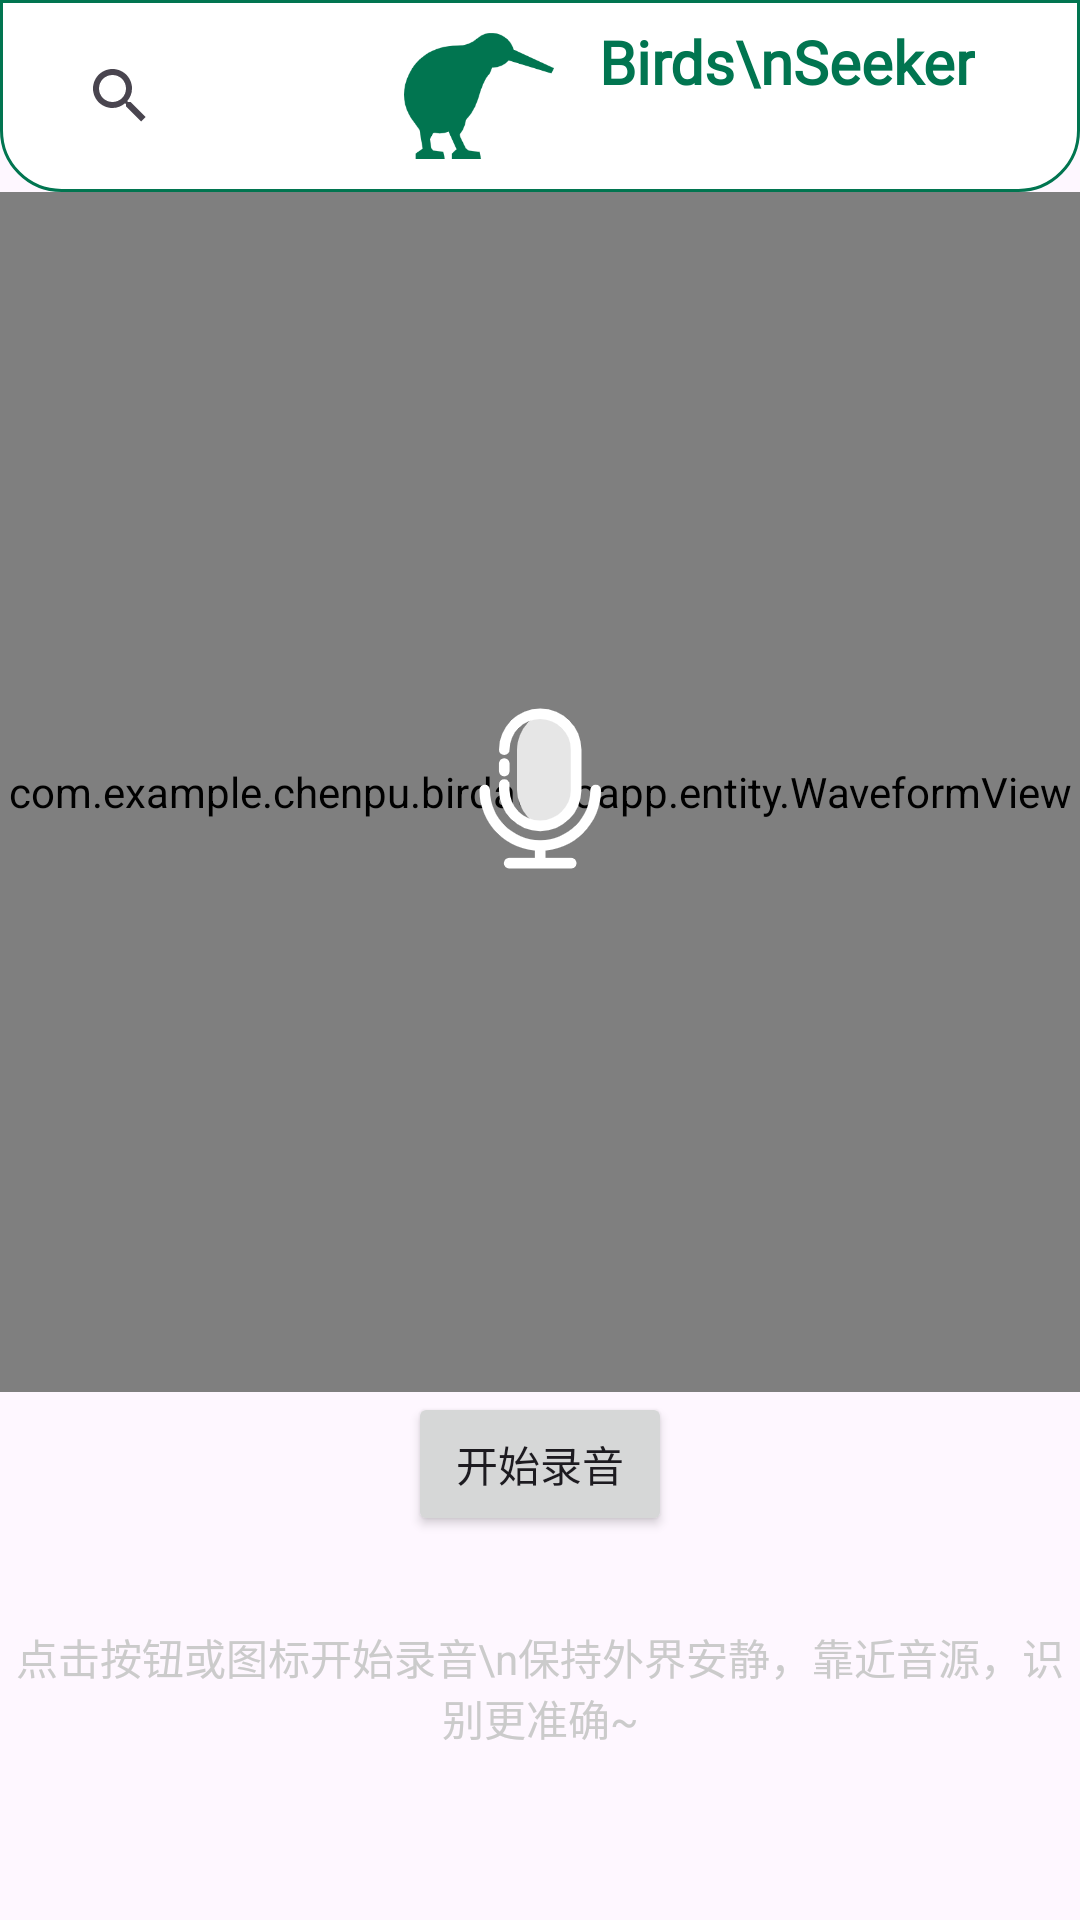

Where to tap for icons on this 1080*1920 app screen, as [x,y]:
record: [544,788]
